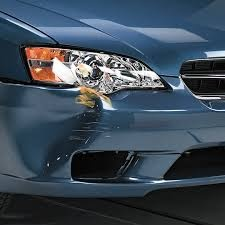Dent: (20, 88, 145, 188)
Scratch: (68, 114, 109, 144)
